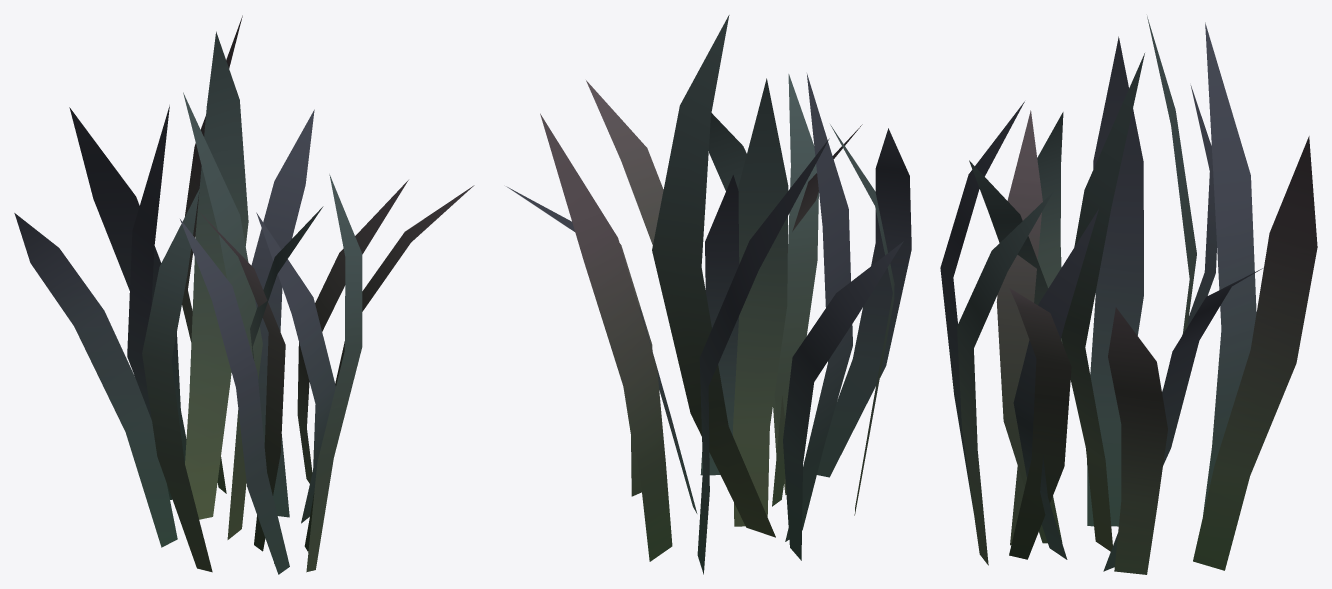
The model's file is Grass2.fbx.
The picture shows the model from 3 angles, left to right: view 1: azimuth 30°, elevation 25°; view 2: azimuth 150°, elevation 25°; view 3: azimuth 270°, elevation 25°; orthographic projection. The views are drawn at different scales.
Visible parts, largest first — view 1: Grass2; view 2: Grass2; view 3: Grass2.
Part boxes in pixels (box(x1,y1,x2,y2)): Grass2: box(14, 15, 474, 574); Grass2: box(506, 15, 911, 574); Grass2: box(940, 16, 1317, 574).
Size of the model in its own units: 80.35 by 101 by 63.55.
